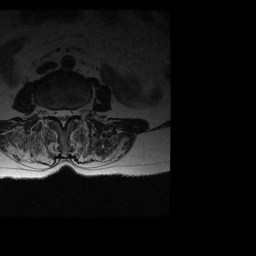CCS_normal: (59, 102, 66, 132)
LFS_normal: (72, 102, 78, 122)
LLS_normal: (66, 103, 72, 124)
RFS_normal: (47, 101, 54, 123)
RLS_normal: (54, 103, 59, 125)
